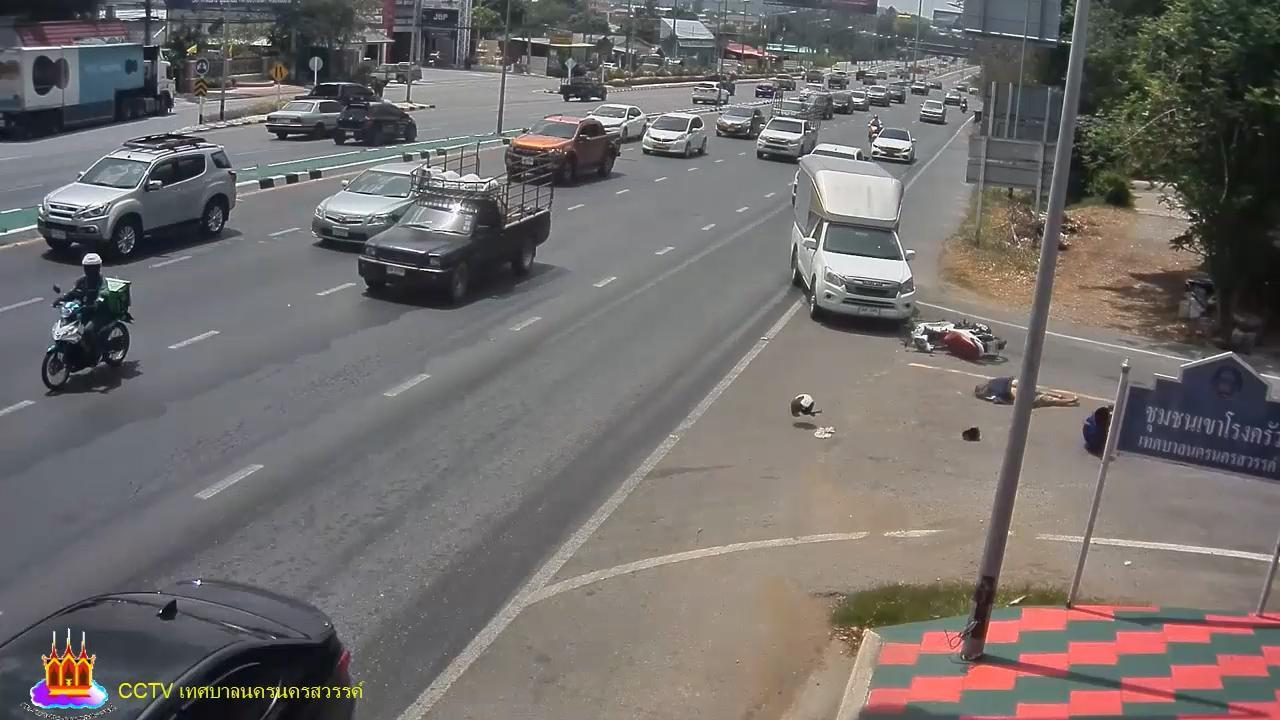accident: (972, 374, 1082, 409)
